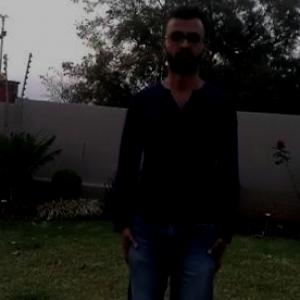follow: (111, 12, 239, 299)
